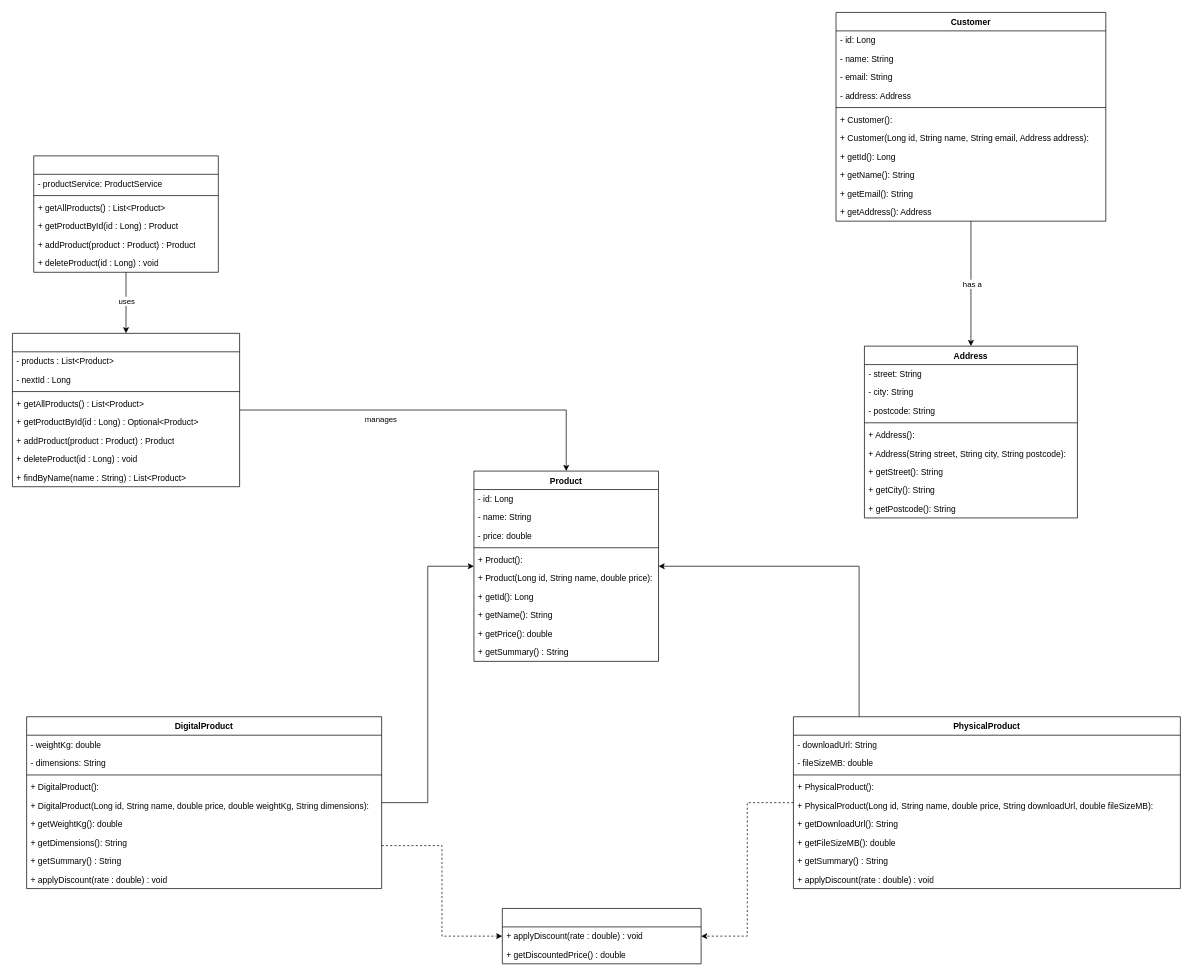
Some shapes in this 1193 by 978 pixel diagram are drawn without their labels. The shapes that lost their labels are listed below. From the top down, each one's box as (x1, y1, x2, y2) in pixels, then its label:
(33, 155, 218, 272): ProductController
(12, 333, 240, 487): ProductService
(502, 908, 701, 964): Discountable
